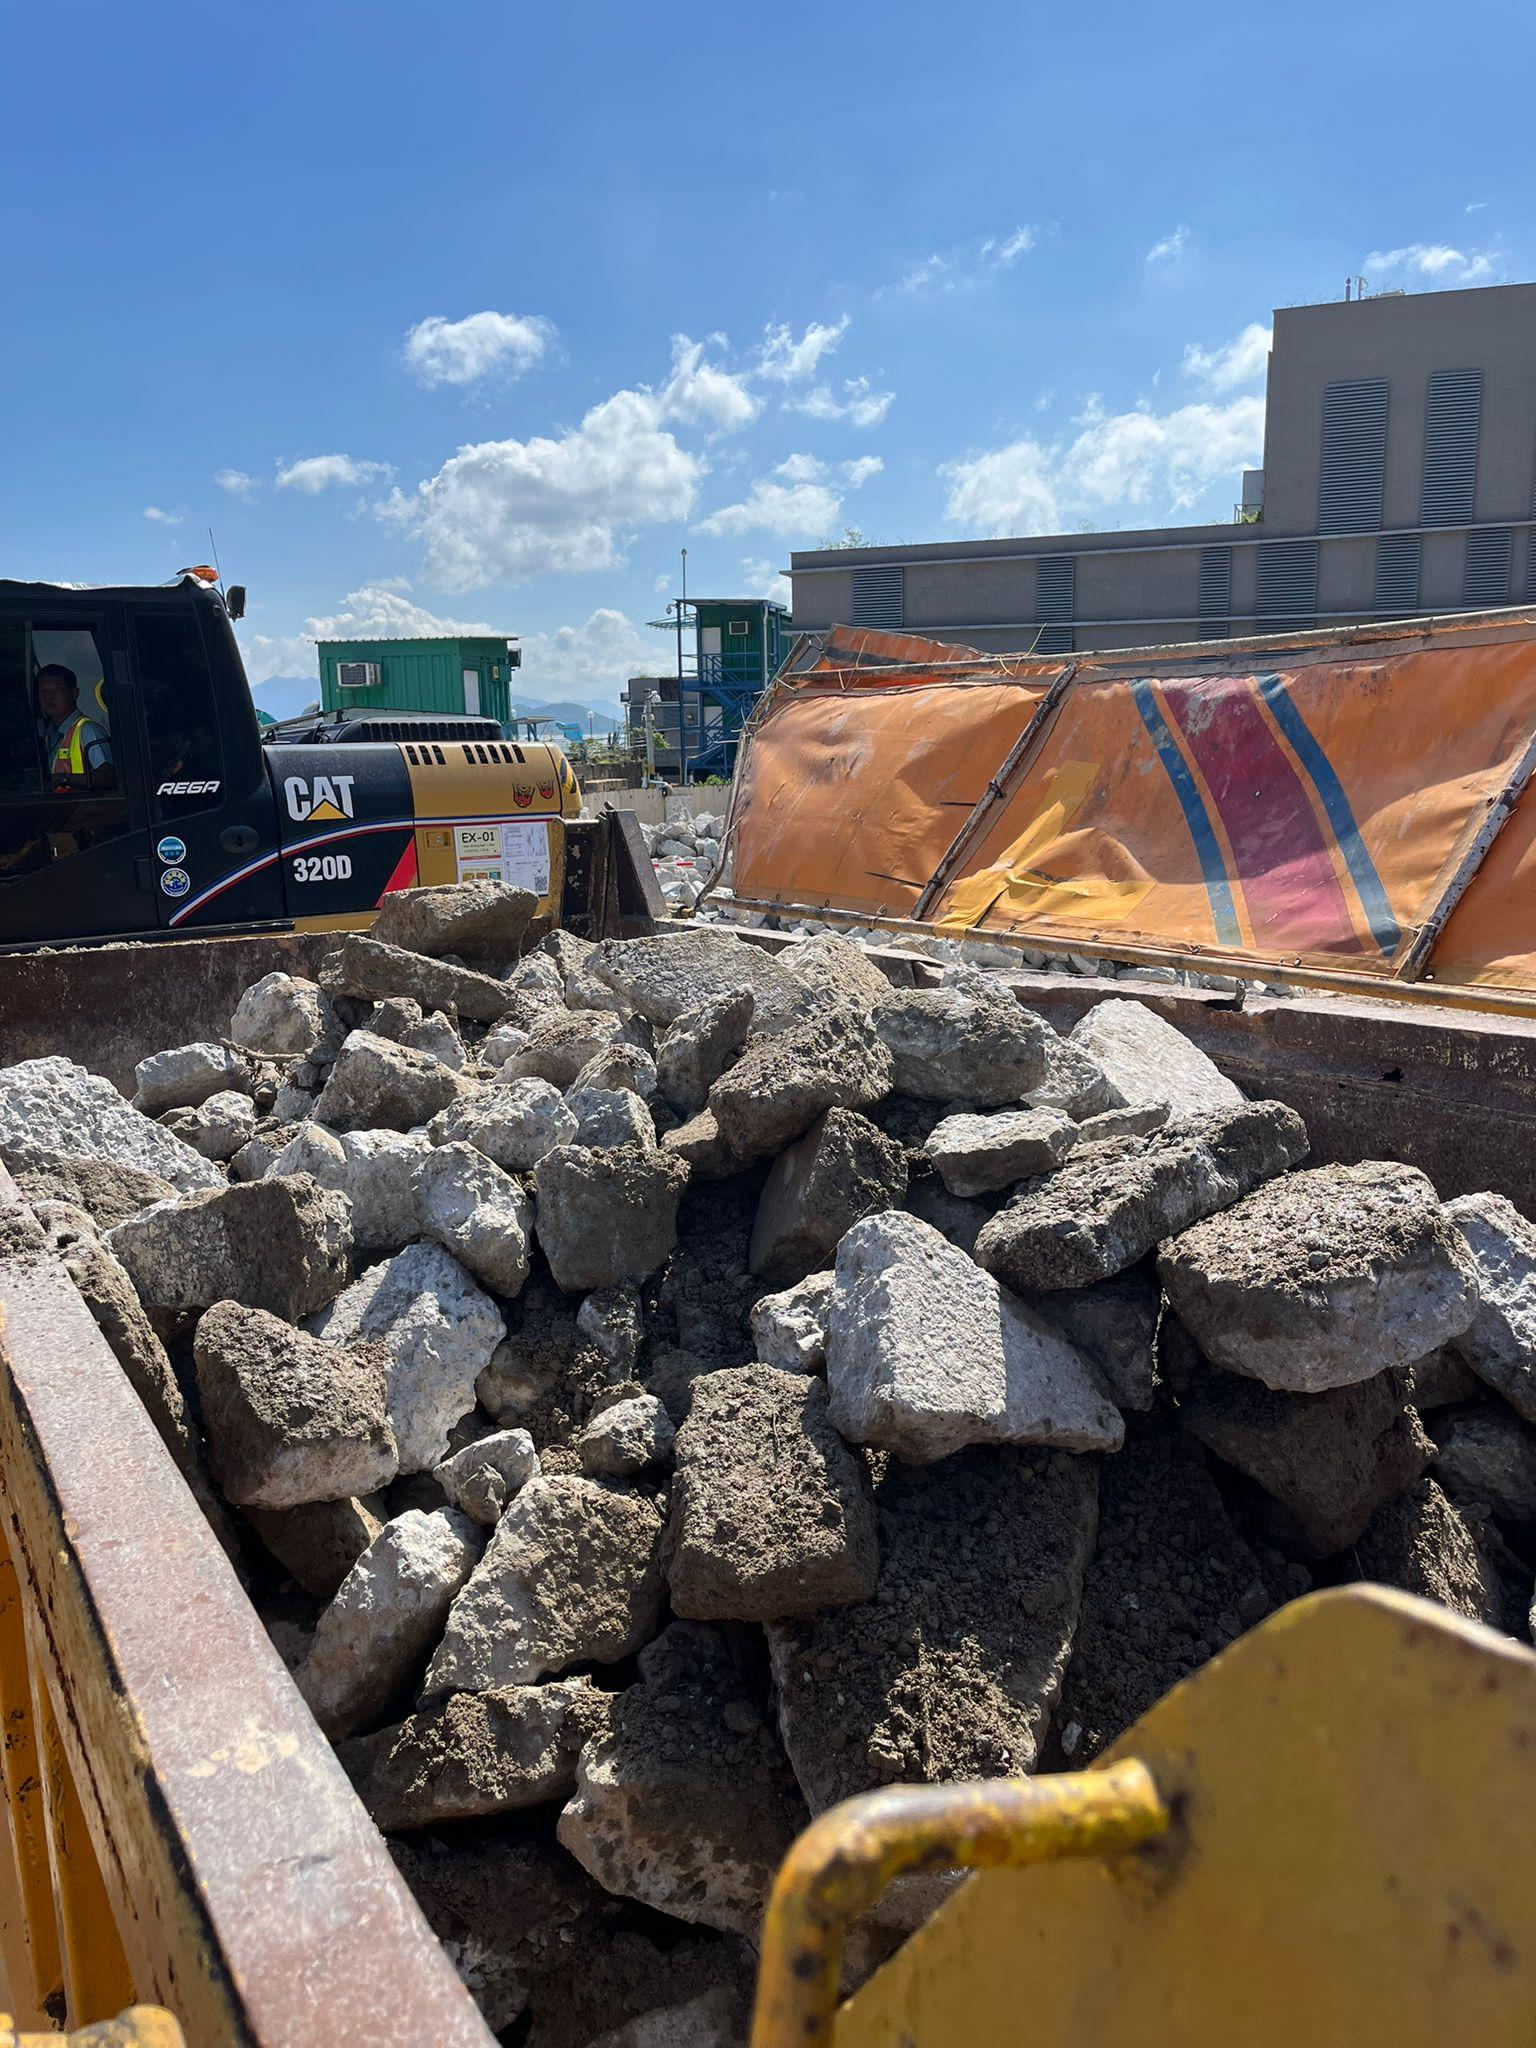dry: (13, 893, 1523, 2043)
